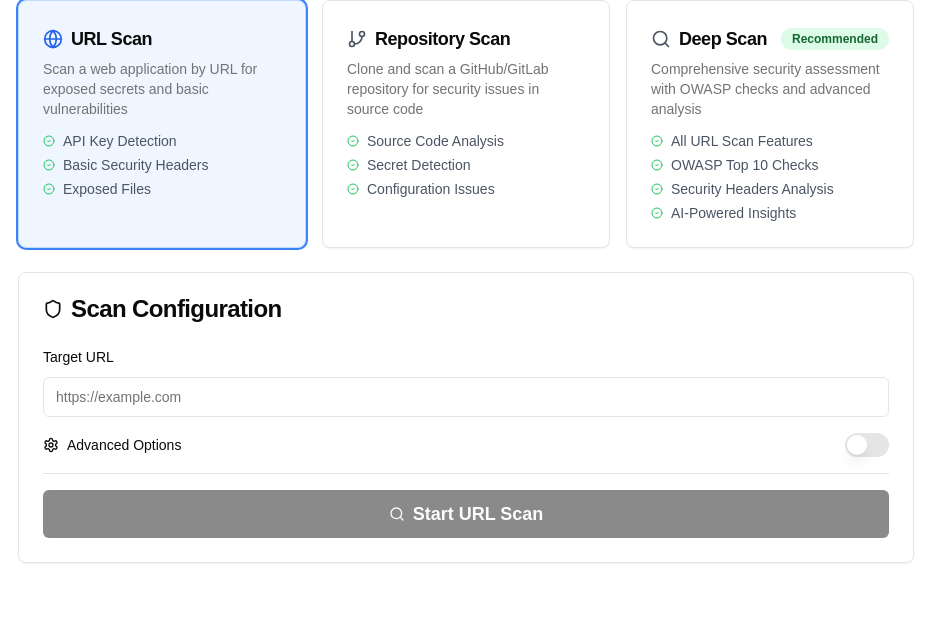
Test: ScanTypeSelector › prevents scan with invalid repository URL
Switch to repository scan
Click the text "Repository Scan" at (443,39), box [375,25,510,53]
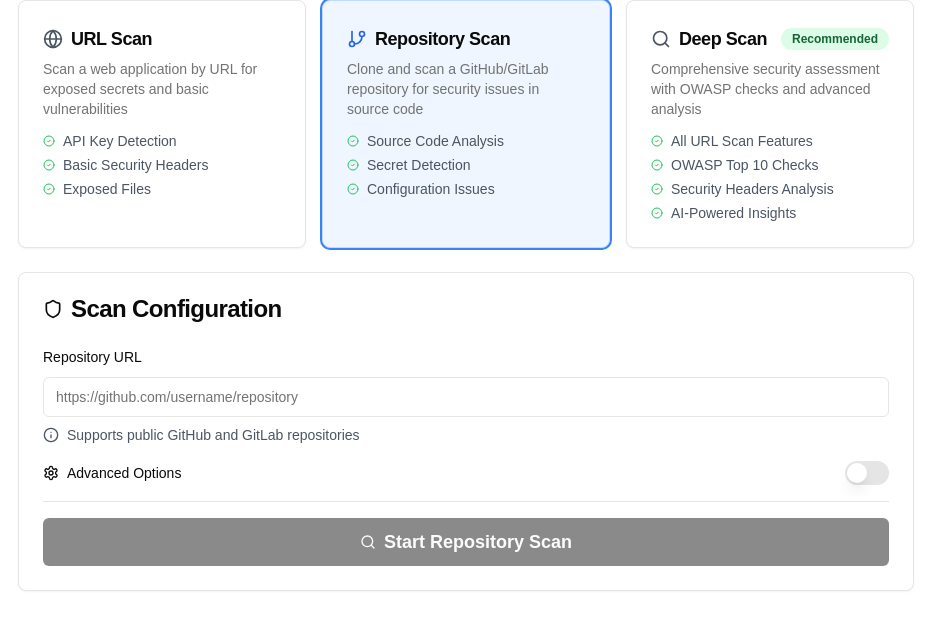
Enter invalid repository URL
Type "https://example.com/repo" into the field labelled "Repository URL" at (466,397), box [43,377,889,417]
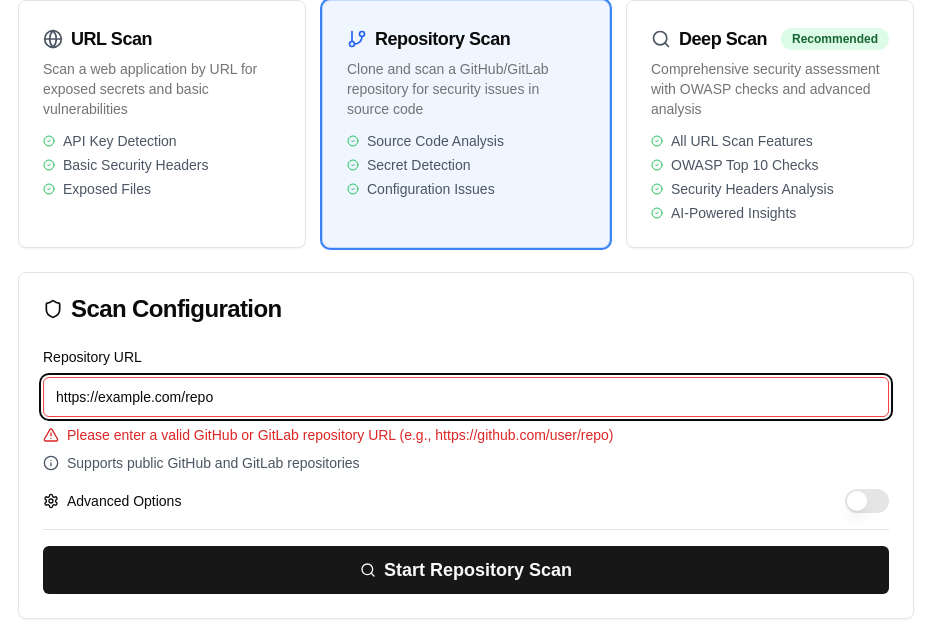
Click the button "Start Repository Scan" at (466,570), box [43,546,889,594]
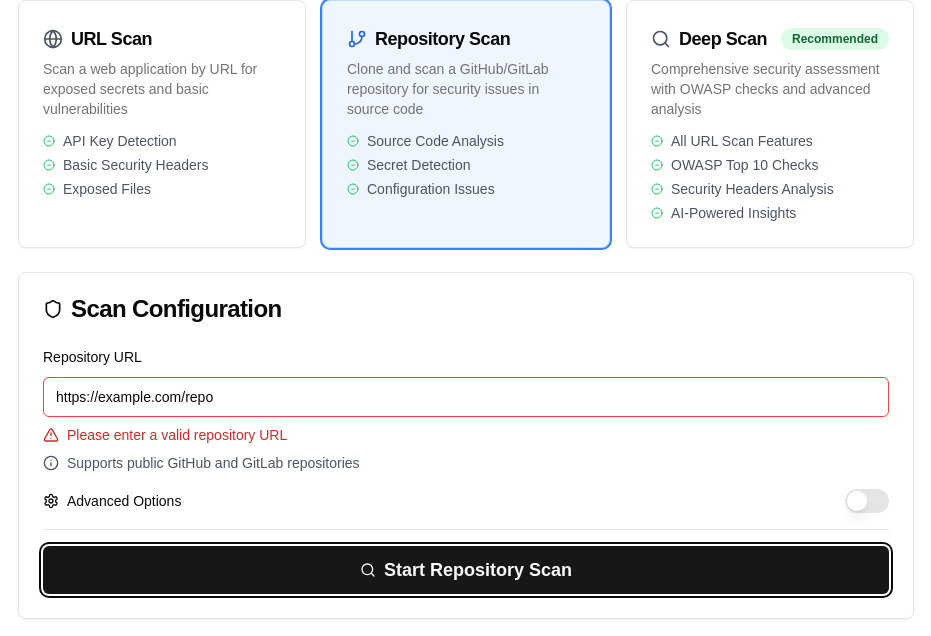
Expected: the text "Please enter a valid repository URL" is shown, [67,425,287,445]
